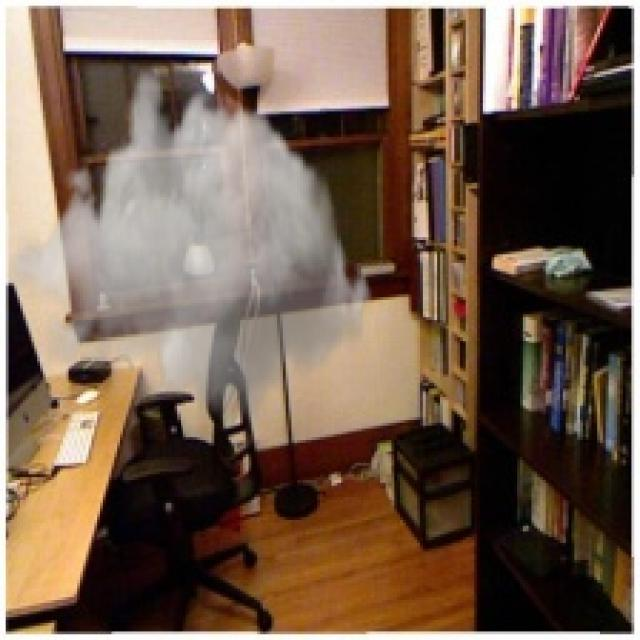smoke: (9, 63, 374, 431)
